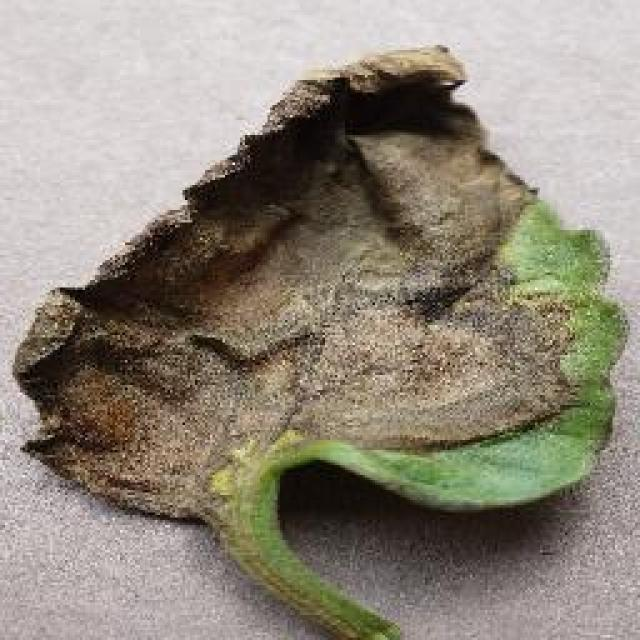Tomato Late Blight: (10, 128, 625, 454)
